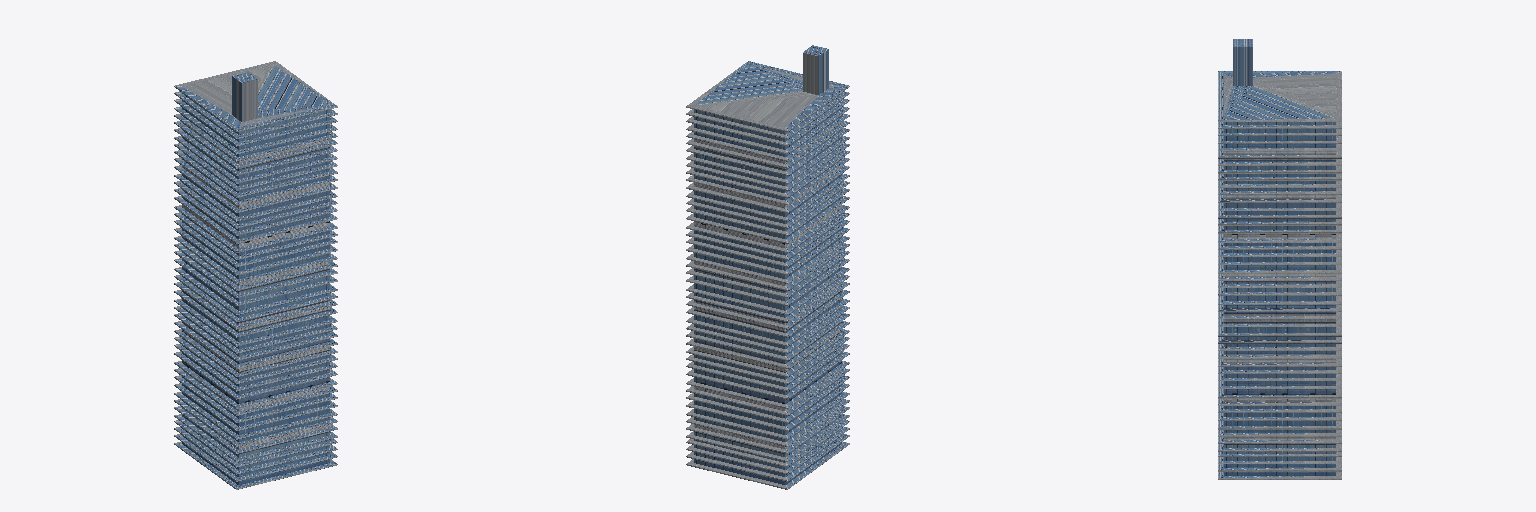
The picture shows the model from 3 angles: view 1: azimuth 30°, elevation 25°; view 2: azimuth 150°, elevation 25°; view 3: azimuth 270°, elevation 25°; orthographic projection.
Parts seen in each view (by area): view 1: block1; view 2: block1; view 3: block1.
Part boxes in pixels (bbox=[...]): block1: bbox=[174, 61, 337, 489]; block1: bbox=[686, 45, 849, 489]; block1: bbox=[1218, 39, 1341, 479].
Size of the model in its own units: 23.35 by 87.6 by 24.79.
Materials: 1 (1 with a texture image).